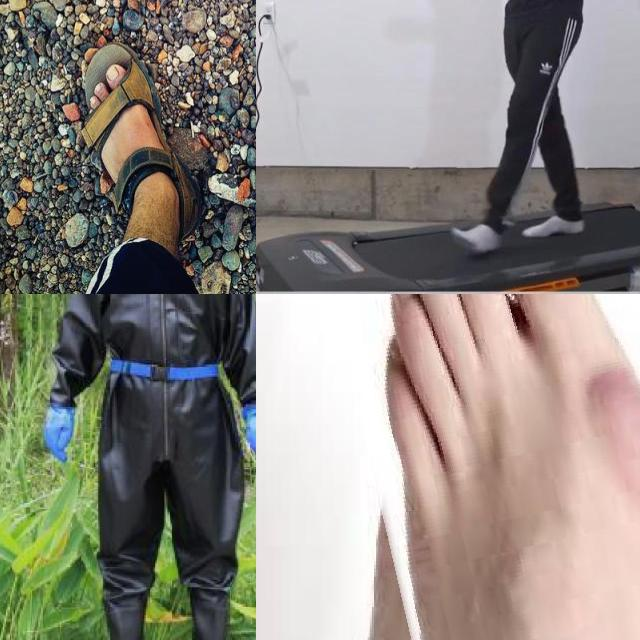Barefoots: (286, 294, 640, 640)
Sandals: (83, 41, 163, 246)
boots: (87, 598, 155, 640), (176, 614, 256, 640)
hand_glove: (41, 402, 74, 464), (242, 409, 256, 476)
person: (22, 294, 256, 640), (449, 0, 595, 255)
